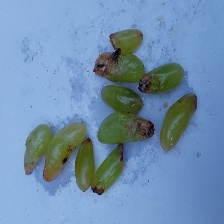grapes: (0, 36, 197, 172)
